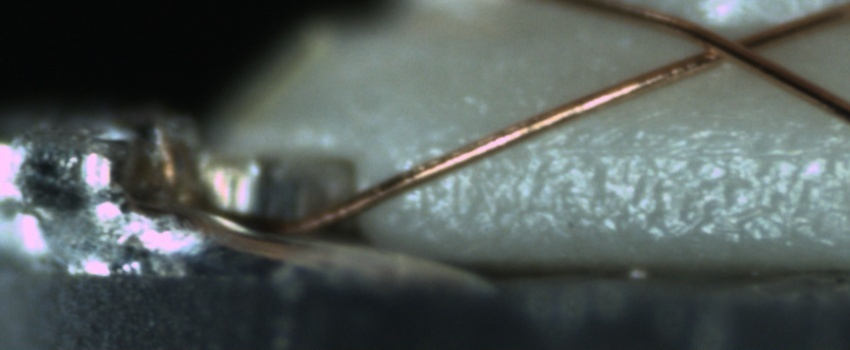CL: (687, 21, 775, 72)
DL: (545, 115, 849, 176)
